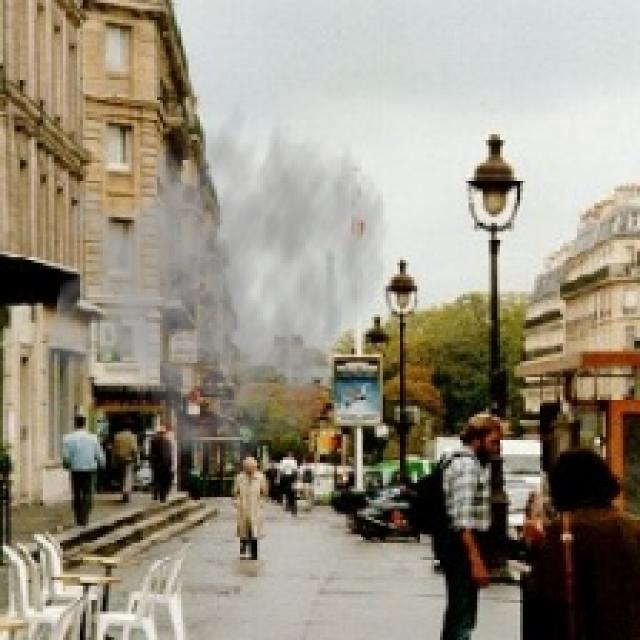smoke: (43, 83, 391, 483)
